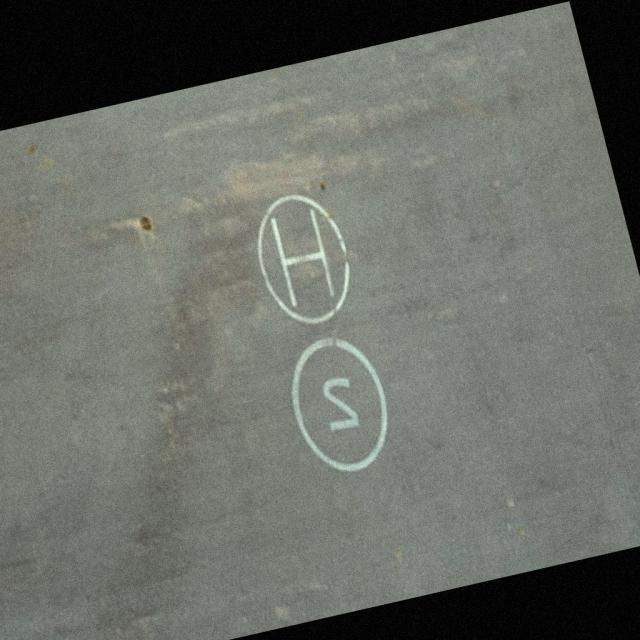helipad: (254, 189, 350, 324)
